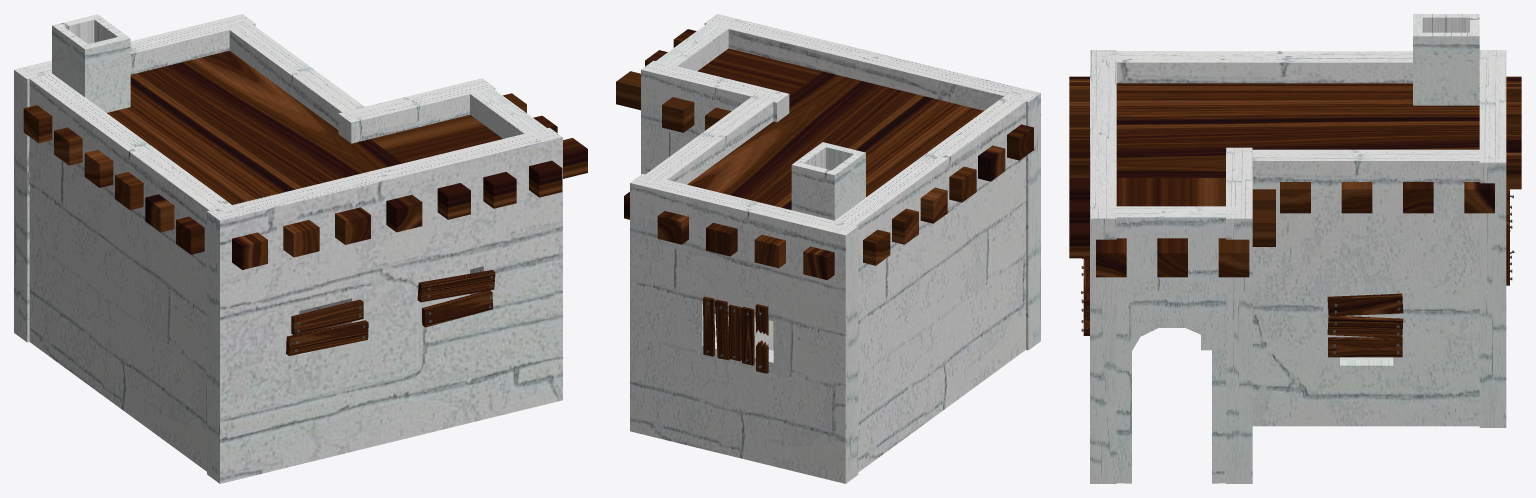
Rendered from House_L.fbx.
The picture shows the model from 3 angles, left to right: view 1: azimuth 30°, elevation 25°; view 2: azimuth 150°, elevation 25°; view 3: azimuth 270°, elevation 25°; orthographic projection. The views are drawn at different scales.
Visible parts, largest first — view 1: pCube1, pCube4, pCube7, pCube2, pCube9, pCube5, pCube3, pCube6, pCube21, pCube23, pCube22, pCube24; view 2: pCube2, pCube4, pCube7, pCube1, pCube3, pCube5, pCube9, pCube6, pCube18, pCube16, pCube17, pCube15; view 3: pCube5, pCube7, pCube6, pCube1, pCube4, pCube2, pCube3, pCube9, pCube14, pCube12, pCube13.
Part boxes in pixels (<box>): pCube1: <box>207,127,562,483</box>; pCube4: <box>21,71,239,471</box>; pCube7: <box>23,50,587,269</box>; pCube2: <box>14,14,255,342</box>; pCube9: <box>52,14,130,112</box>; pCube5: <box>220,18,373,328</box>; pCube3: <box>338,78,495,325</box>; pCube6: <box>469,88,552,294</box>; pCube21: <box>286,320,368,355</box>; pCube23: <box>417,270,495,302</box>; pCube22: <box>291,299,363,335</box>; pCube24: <box>421,290,492,327</box>; pCube2: <box>630,174,858,483</box>; pCube4: <box>827,92,1033,472</box>; pCube7: <box>616,29,1033,279</box>; pCube1: <box>704,14,1040,350</box>; pCube3: <box>641,60,789,349</box>; pCube5: <box>640,91,781,350</box>; pCube9: <box>791,142,865,220</box>; pCube6: <box>650,21,731,71</box>; pCube18: <box>741,306,754,365</box>; pCube16: <box>715,300,729,360</box>; pCube17: <box>728,304,741,361</box>; pCube15: <box>703,296,714,356</box>; pCube5: <box>1237,149,1499,426</box>; pCube7: <box>1069,76,1521,277</box>; pCube6: <box>1105,206,1238,483</box>; pCube1: <box>1090,50,1116,483</box>; pCube4: <box>1098,51,1497,83</box>; pCube2: <box>1479,50,1506,427</box>; pCube3: <box>1226,147,1252,483</box>; pCube9: <box>1413,14,1479,105</box>; pCube14: <box>1328,337,1402,357</box>; pCube12: <box>1327,293,1403,316</box>; pCube13: <box>1327,316,1403,338</box>.
Bounding box in the file's own units: 16.7 × 13.05 × 17.
